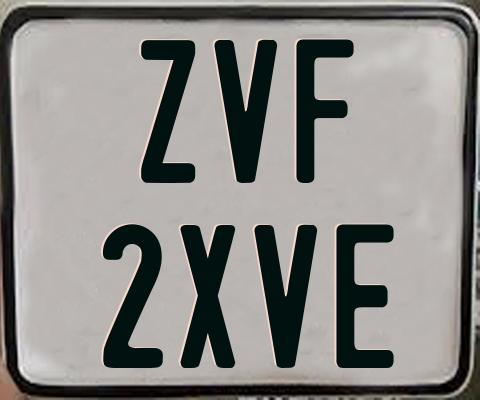2: (102, 223, 163, 373)
E: (334, 221, 398, 366)
F: (296, 38, 354, 188)
V: (251, 224, 316, 368), (211, 38, 274, 186)
X: (179, 222, 235, 371)
Z: (141, 39, 200, 182)
